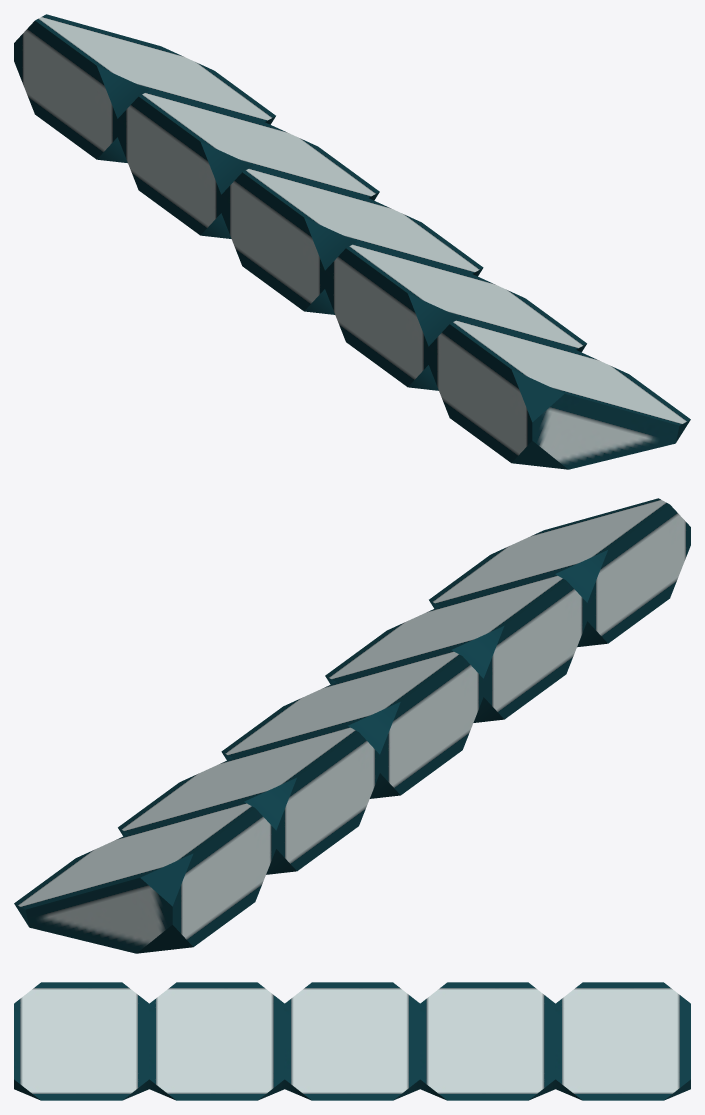
Rendered from MG-ChangJing-CeShi-BianPo-5.FBX.
3 views of the same model, one above another, from view 1: azimuth 30°, elevation 25°; view 2: azimuth 150°, elevation 25°; view 3: azimuth 270°, elevation 25° (orthographic). The views are drawn at different scales.
Visible parts, largest first — view 1: MG-ChangJing-CeShi-BianPo-5; view 2: MG-ChangJing-CeShi-BianPo-5; view 3: MG-ChangJing-CeShi-BianPo-5.
Boxes of the visible parts, x1,y1,x2,y2 form: MG-ChangJing-CeShi-BianPo-5: (14,14,690,469); MG-ChangJing-CeShi-BianPo-5: (14,498,690,953); MG-ChangJing-CeShi-BianPo-5: (14,982,690,1100).
Bounding box in the file's own units: 39.37 × 19.69 × 197.
